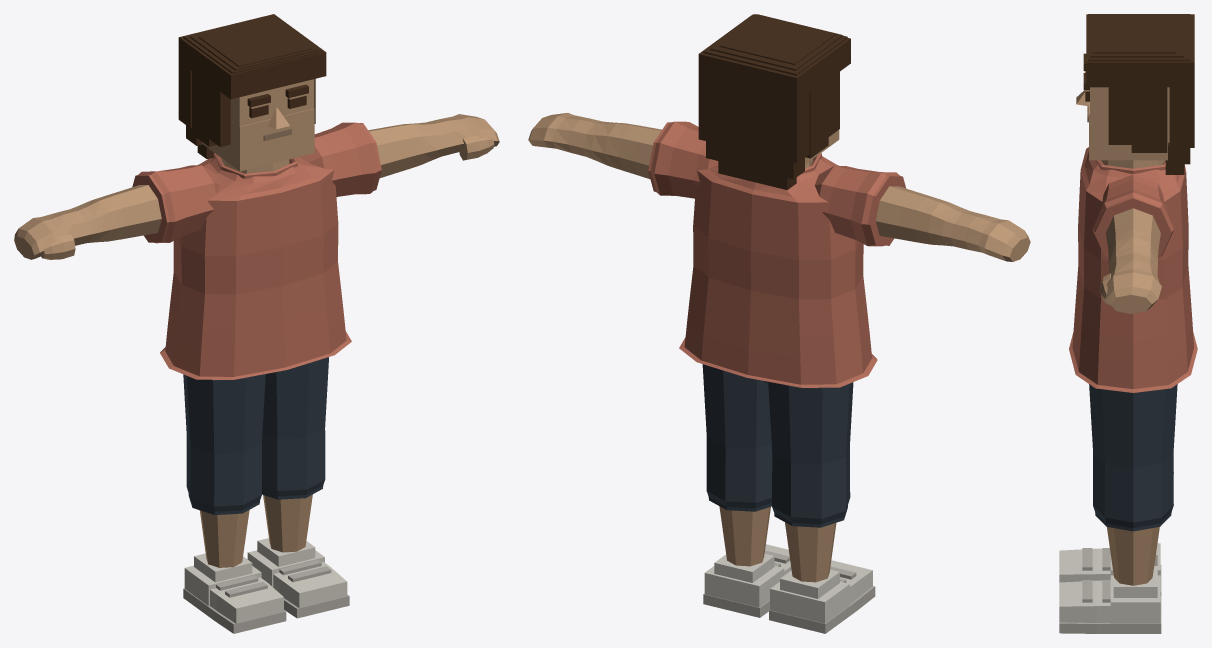
The model's file is neighborhood-child-8cc5ac.glb.
3 renders of one model, left to right at view 1: azimuth 30°, elevation 25°; view 2: azimuth 150°, elevation 25°; view 3: azimuth 270°, elevation 25°, orthographic. The views are drawn at different scales.
Visible parts, largest first — view 1: neighborhood-child-8cc5ac; view 2: neighborhood-child-8cc5ac; view 3: neighborhood-child-8cc5ac.
Boxes of the visible parts, box(x1,y1,x2,y2) form: neighborhood-child-8cc5ac: box(14, 14, 499, 633); neighborhood-child-8cc5ac: box(528, 14, 1030, 633); neighborhood-child-8cc5ac: box(1059, 14, 1197, 633).
Size of the model in its own units: 1.04 by 1.17 by 0.2582.
